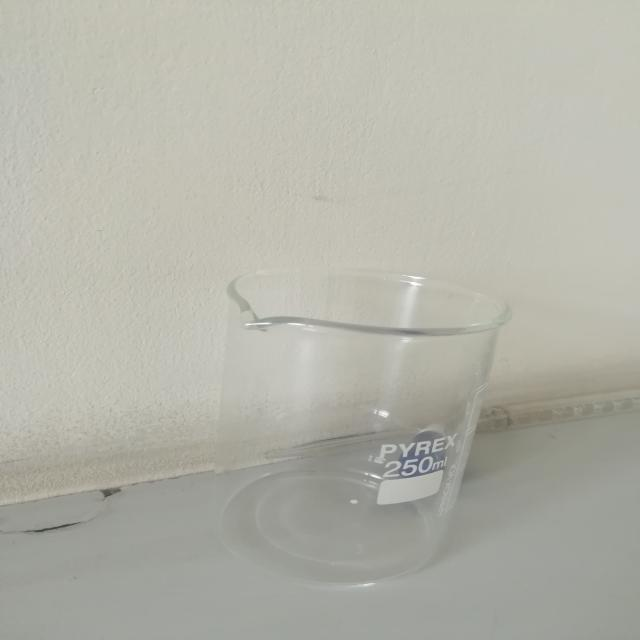Beaker: (172, 233, 544, 604)
